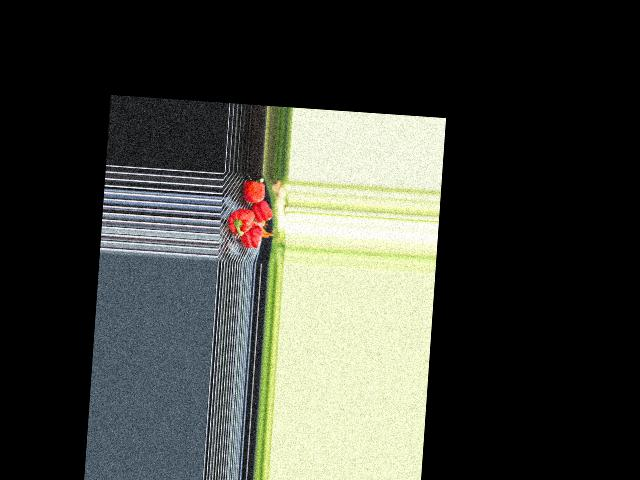bell_pepper: (240, 222, 264, 249)
